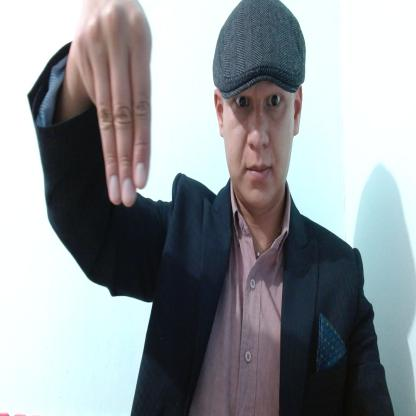M: (73, 0, 153, 205)
